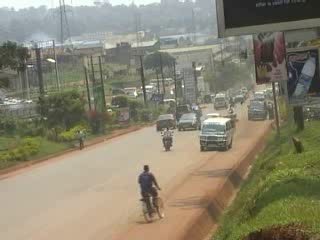Car: (176, 111, 202, 132), (154, 111, 176, 133), (172, 104, 194, 121), (190, 103, 203, 118), (233, 92, 247, 104), (204, 112, 221, 121)
Motorcycle: (157, 129, 174, 152), (226, 106, 235, 116)
